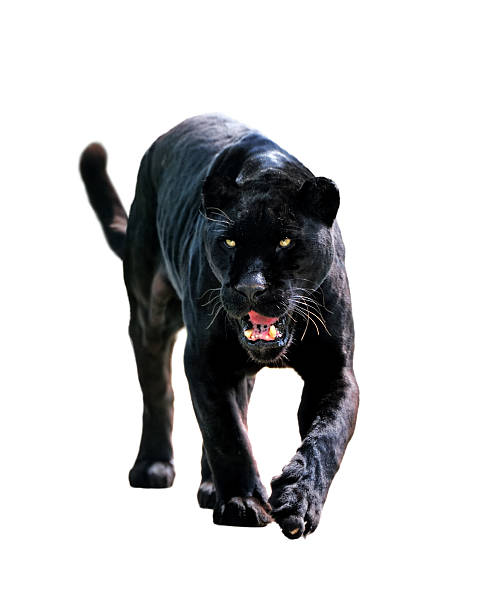panther: (180, 164, 350, 379)
